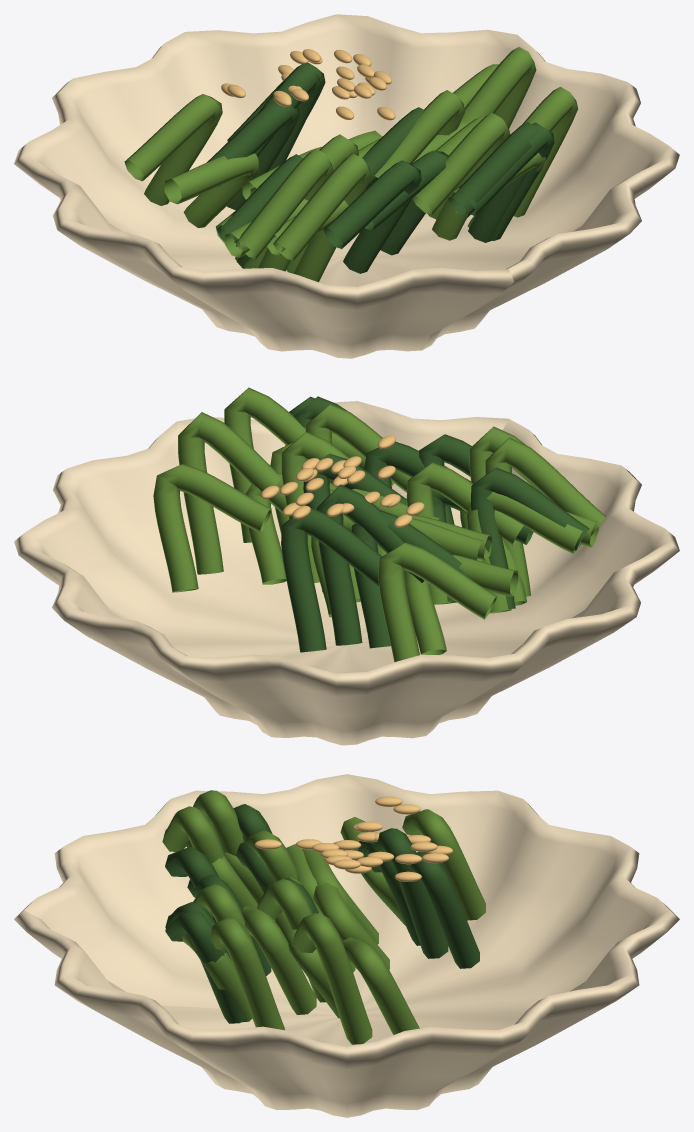
The model's file is 31-spinach.glb.
The picture shows the model from 3 angles, top to bottom: view 1: azimuth 30°, elevation 25°; view 2: azimuth 150°, elevation 25°; view 3: azimuth 270°, elevation 25°; orthographic projection.
Visible parts, largest first — view 1: 시금치 참깨무침; view 2: 시금치 참깨무침; view 3: 시금치 참깨무침.
Part boxes in pixels (x1,y1,x2,y2): 시금치 참깨무침: (14, 14, 679, 358); 시금치 참깨무침: (14, 387, 679, 745); 시금치 참깨무침: (14, 774, 679, 1117).
Size of the model in its own units: 1.7 by 0.6136 by 1.7.
